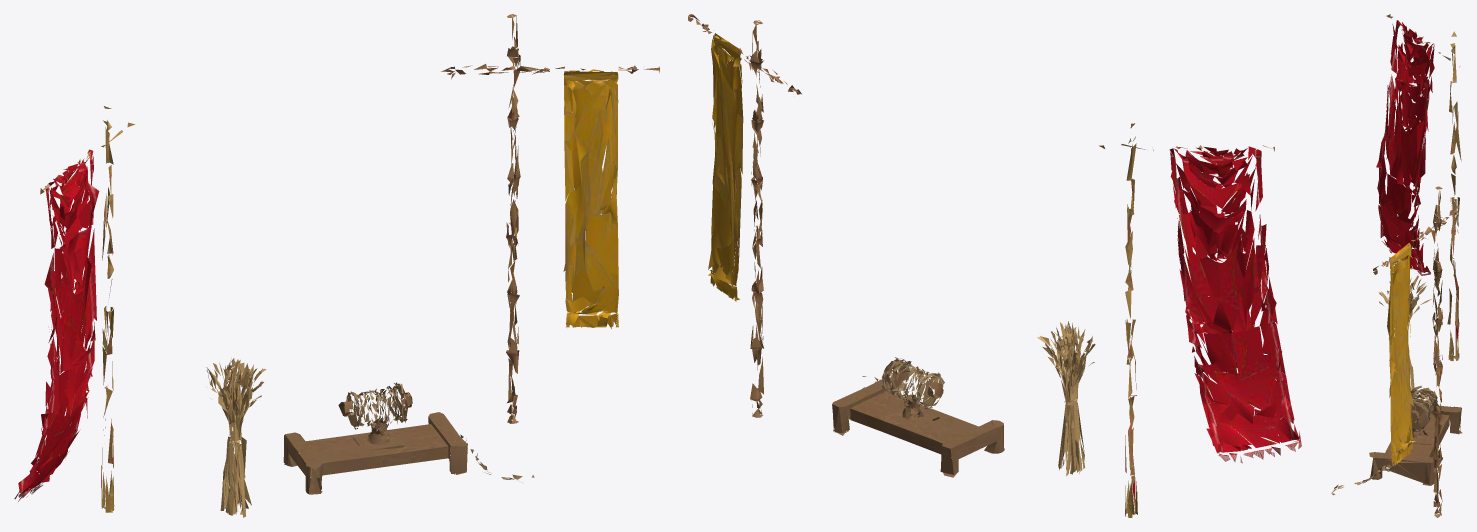
Rendered from stand.glb.
3 views of the same model, side by side, from view 1: azimuth 30°, elevation 25°; view 2: azimuth 150°, elevation 25°; view 3: azimuth 270°, elevation 25° (orthographic). The views are drawn at different scales.
Visible parts, largest first — view 1: prop_kelantan_ground_2, prop_kelantan_ground_1, prop_kelantan_ground_5, prop_kelantan_ground_4; view 2: prop_kelantan_ground_1, prop_kelantan_ground_2, prop_kelantan_ground_5, prop_kelantan_ground_4; view 3: prop_kelantan_ground_1, prop_kelantan_ground_2, prop_kelantan_ground_5, prop_kelantan_ground_4.
Boxes of the visible parts, x1,y1,x2,y2 form: prop_kelantan_ground_2: [441, 14, 659, 423]; prop_kelantan_ground_1: [14, 106, 134, 512]; prop_kelantan_ground_5: [283, 382, 534, 494]; prop_kelantan_ground_4: [206, 358, 266, 517]; prop_kelantan_ground_1: [1099, 123, 1301, 517]; prop_kelantan_ground_2: [688, 14, 801, 417]; prop_kelantan_ground_5: [832, 357, 1004, 477]; prop_kelantan_ground_4: [1037, 321, 1095, 476]; prop_kelantan_ground_1: [1376, 14, 1461, 360]; prop_kelantan_ground_2: [1373, 186, 1459, 517]; prop_kelantan_ground_5: [1331, 385, 1462, 495]; prop_kelantan_ground_4: [1378, 275, 1431, 397].
Bounding box in the file's own units: 312 × 190 × 69.43.
Materials: 1 (1 with a texture image).
